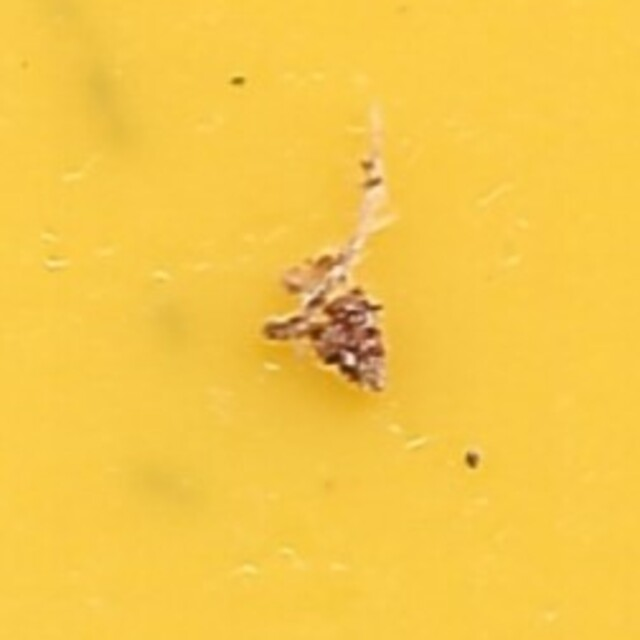Hemiptera: (254, 248, 386, 392)
